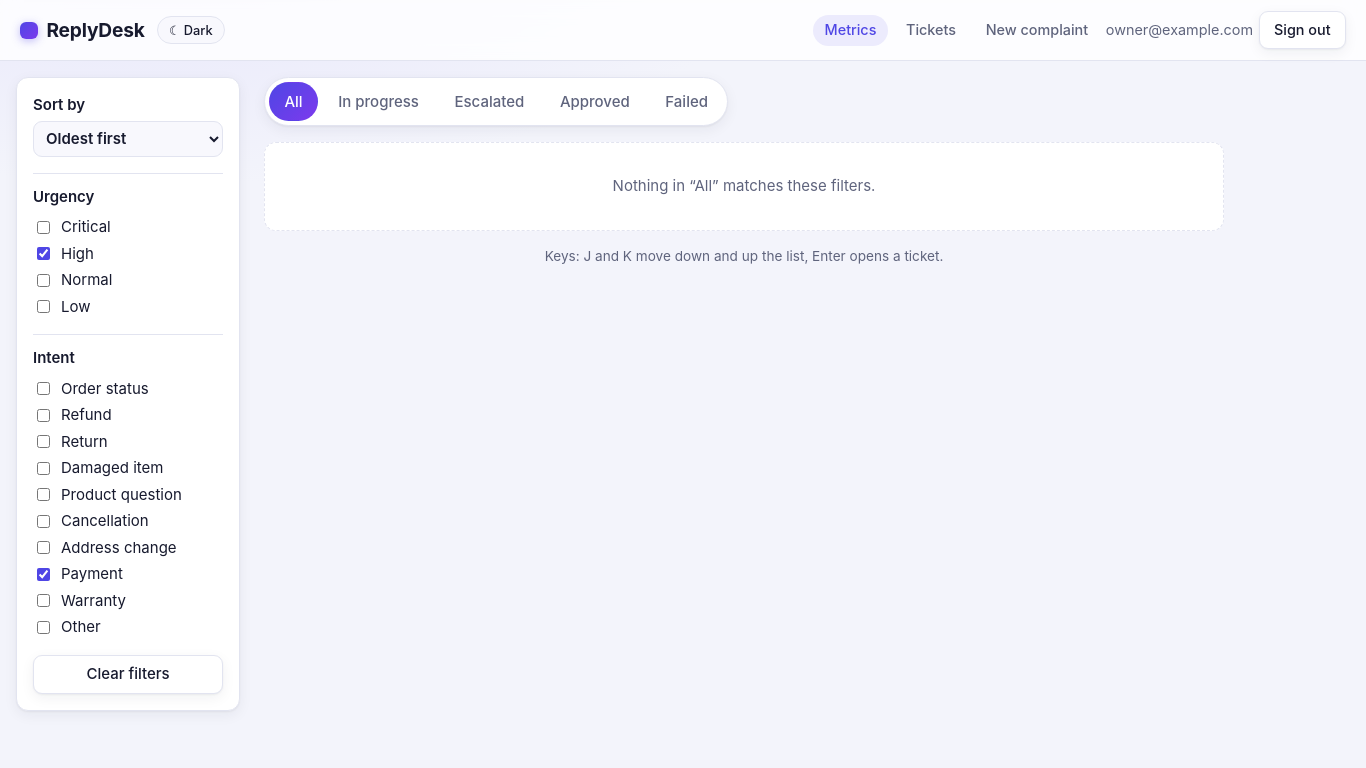
Scenario: the queue › starts from the filters in the address and clears them with one button
This screenshot has width=1366, height=768.
Expected: the text "Nothing in “All” matches these filters." is shown, [264,142,1224,231]
Expected: the checkbox labelled "High" is checked, [37,247,50,260]
Step 1. Click the button "Clear filters" → click(128, 674), box [33,655,223,694]
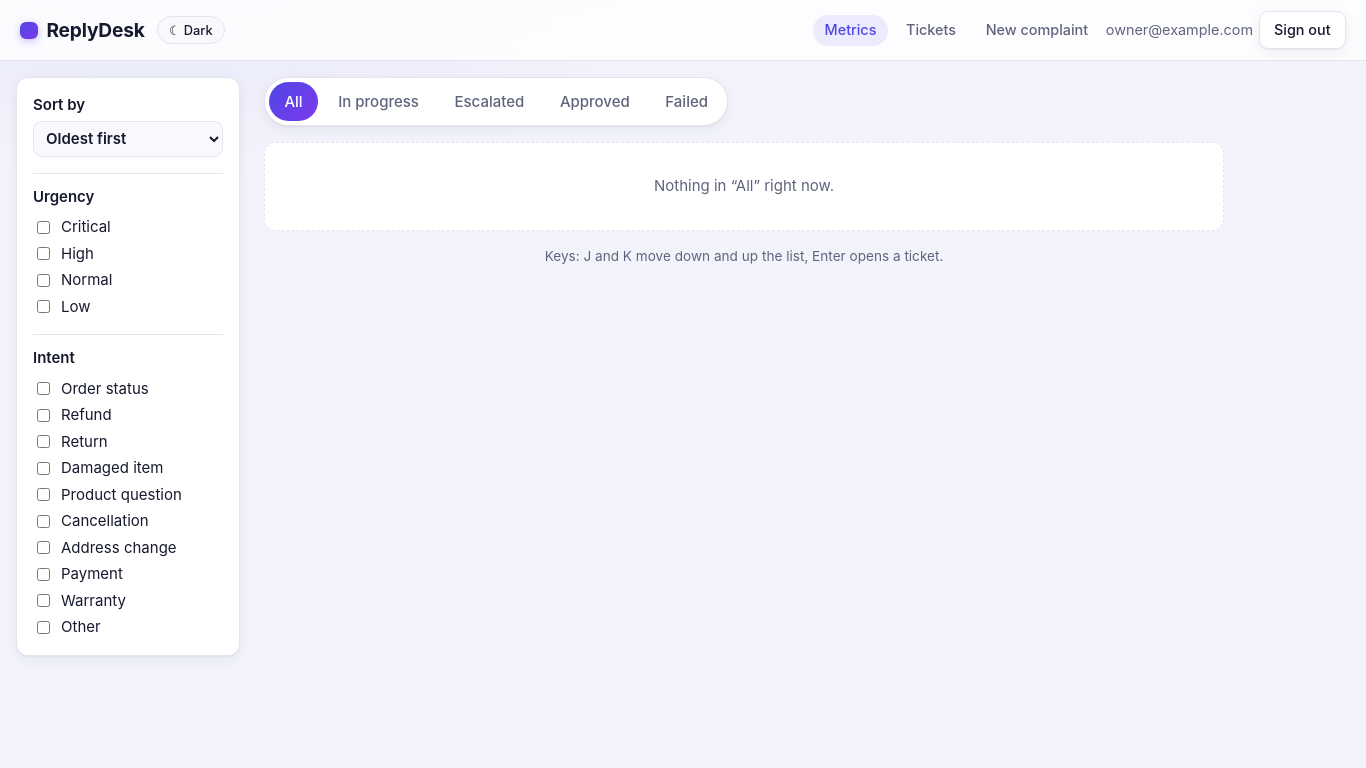
Now the text "Nothing in “All” right now." is shown, box [264,142,1224,231]
Now the button "Clear filters" is gone
